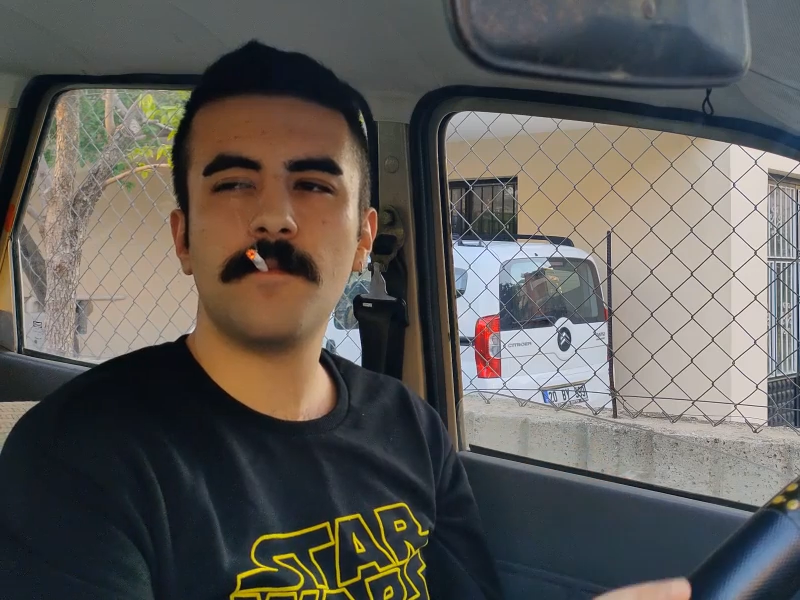sigara: (242, 244, 271, 278)
